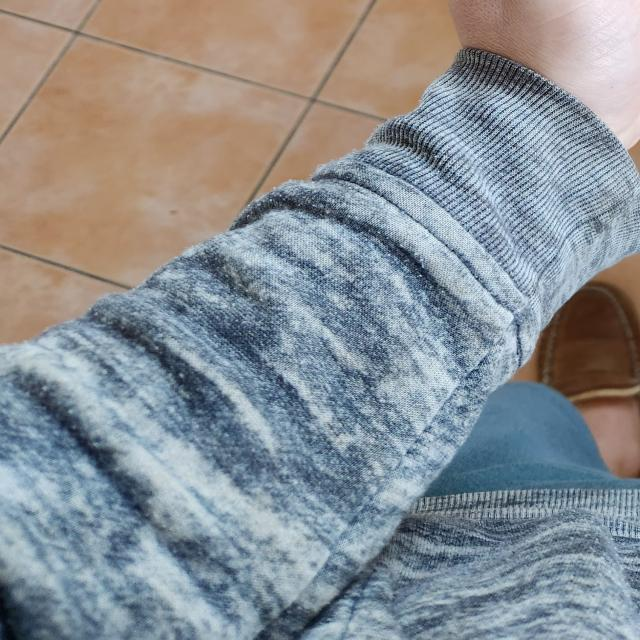tomato: (603, 0, 640, 3)
